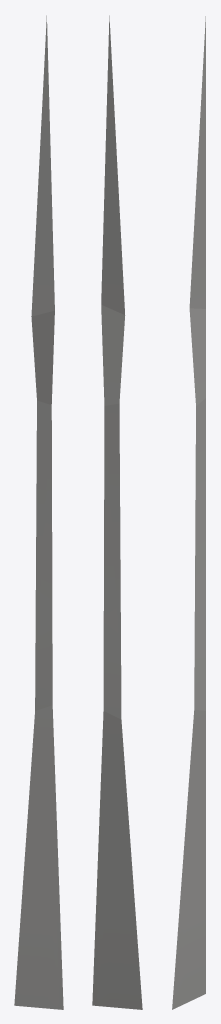
The picture shows the model from 3 angles, left to right: view 1: azimuth 30°, elevation 25°; view 2: azimuth 210°, elevation 25°; view 3: azimuth 270°, elevation 25°; orthographic projection. The views are drawn at different scales.
Bounding box in the file's own units: 0.00192 × 0.0555 × 0.00171.
Materials: 1 (1 with a texture image).
